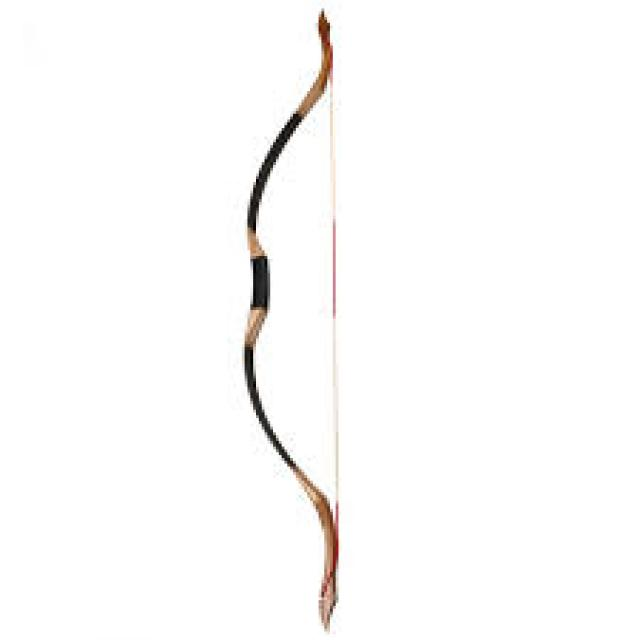X-Bow: (236, 6, 347, 633)
